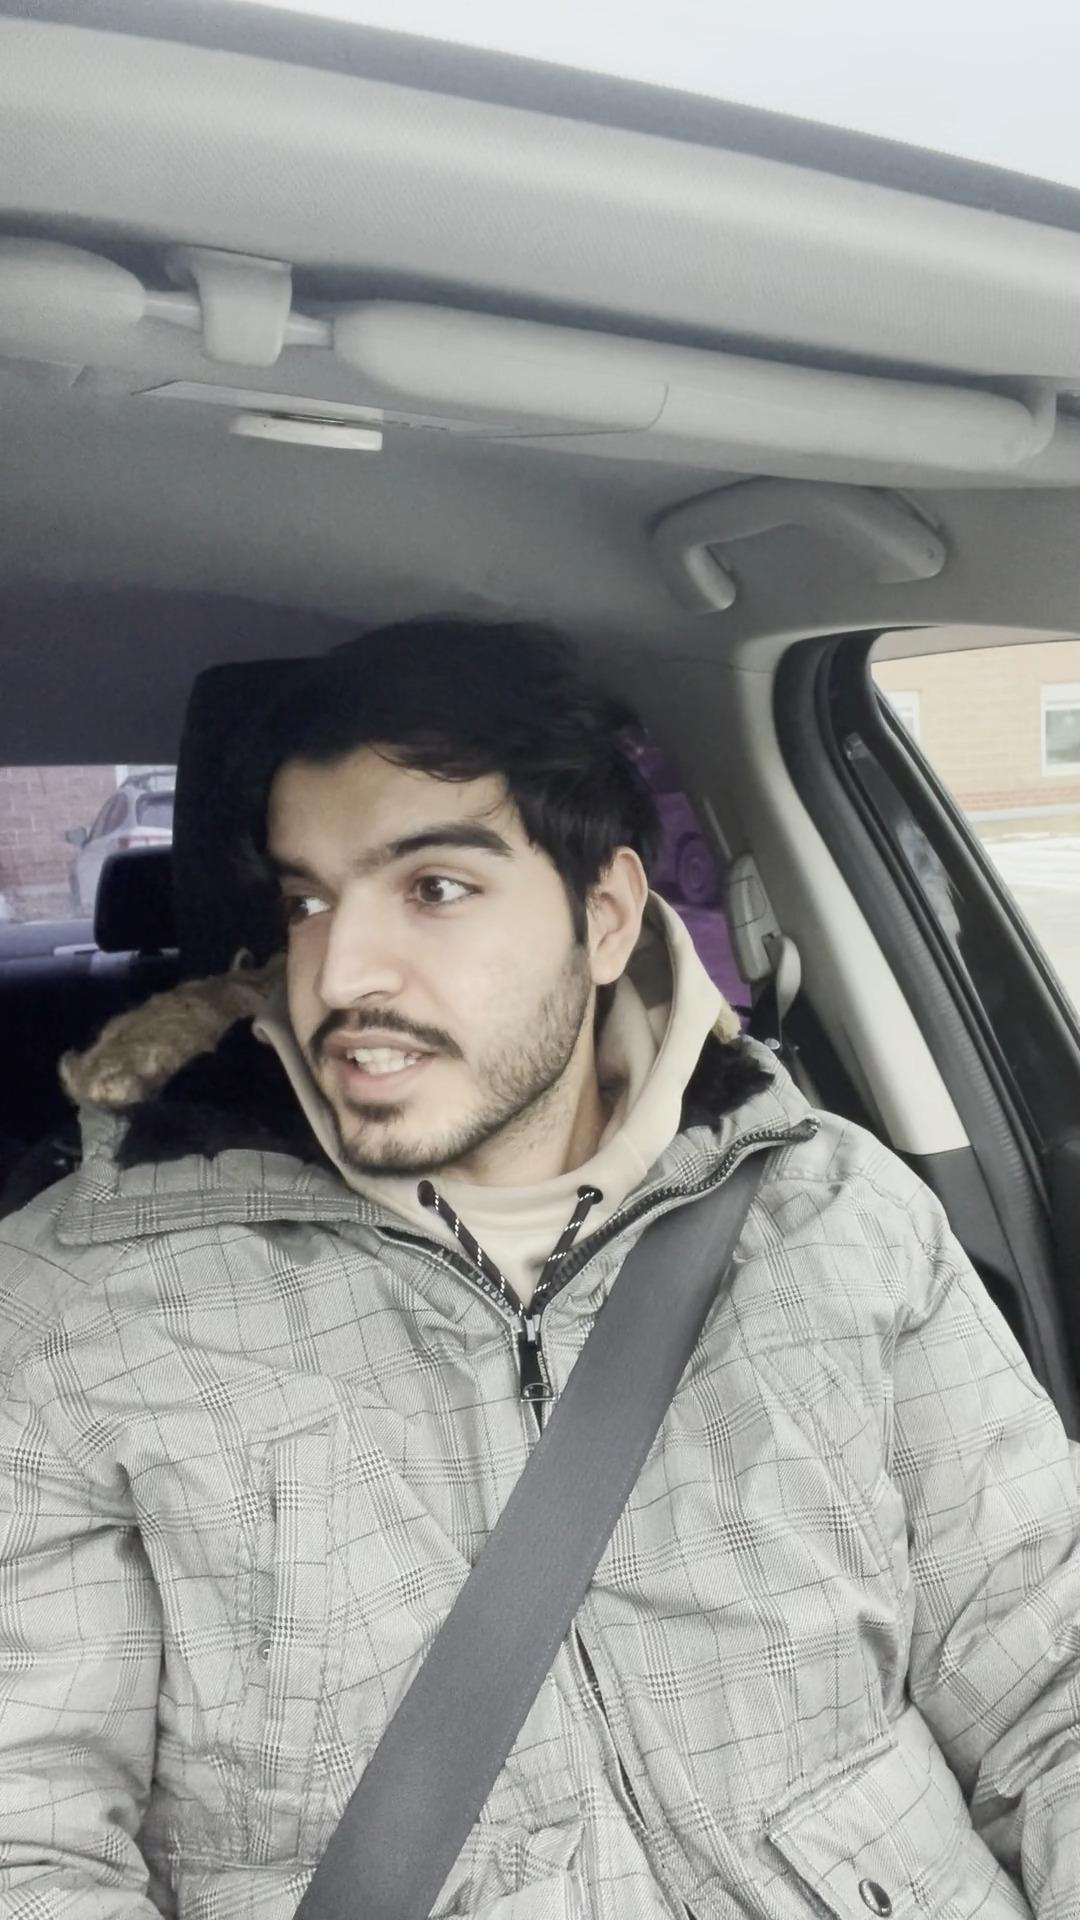seatbelt: (200, 1088, 895, 1920)
